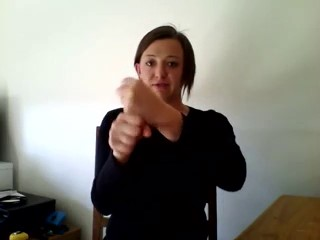G: (107, 73, 154, 158)
